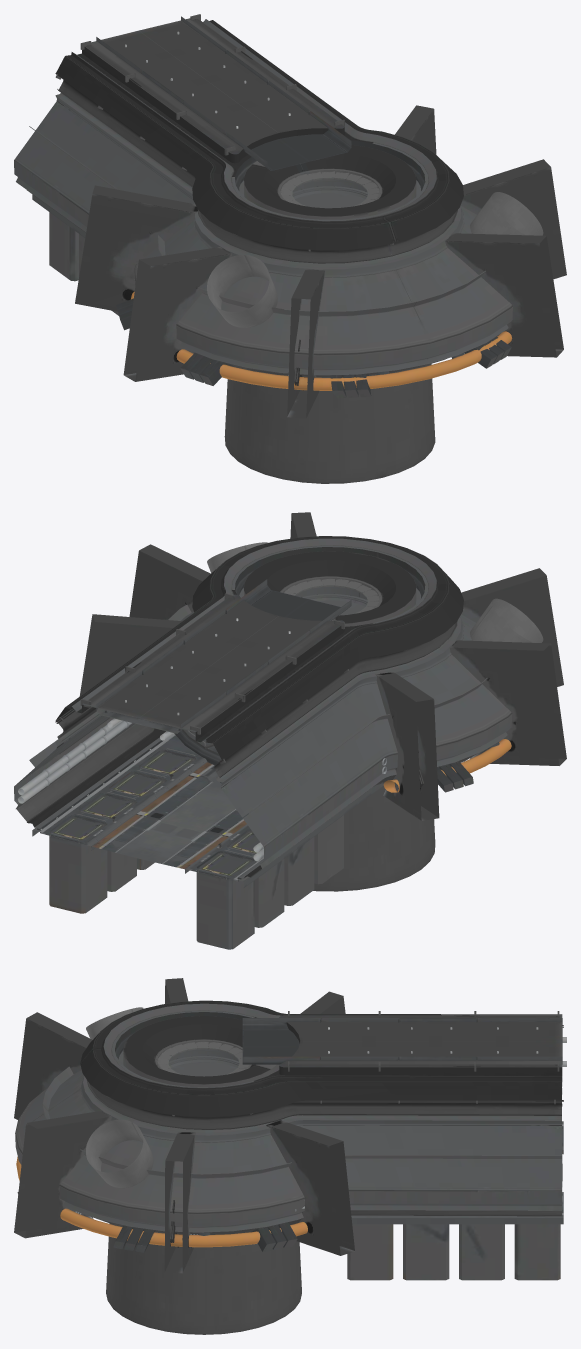
Rendered from hangar.glb.
The picture shows the model from 3 angles, top to bottom: view 1: azimuth 30°, elevation 25°; view 2: azimuth 150°, elevation 25°; view 3: azimuth 270°, elevation 25°; orthographic projection. The views are drawn at different scales.
Visible parts, largest first — view 1: Cylinder.001_Base_0, Plane_Details_Cevre_0; view 2: Cylinder.001_Base_0, Plane_Details_Cevre_0; view 3: Cylinder.001_Base_0, Plane_Details_Cevre_0.
Boxes of the visible parts, left/top/right/bottom form: Cylinder.001_Base_0: left=14, top=16, right=512, bottom=483; Plane_Details_Cevre_0: left=55, top=14, right=566, bottom=418; Cylinder.001_Base_0: left=14, top=536, right=512, bottom=949; Plane_Details_Cevre_0: left=18, top=512, right=566, bottom=879; Cylinder.001_Base_0: left=15, top=1000, right=563, bottom=1334; Plane_Details_Cevre_0: left=14, top=978, right=566, bottom=1273.
Size of the model in its own units: 6.43 by 4 by 7.54.
2 materials, 2 textured.
